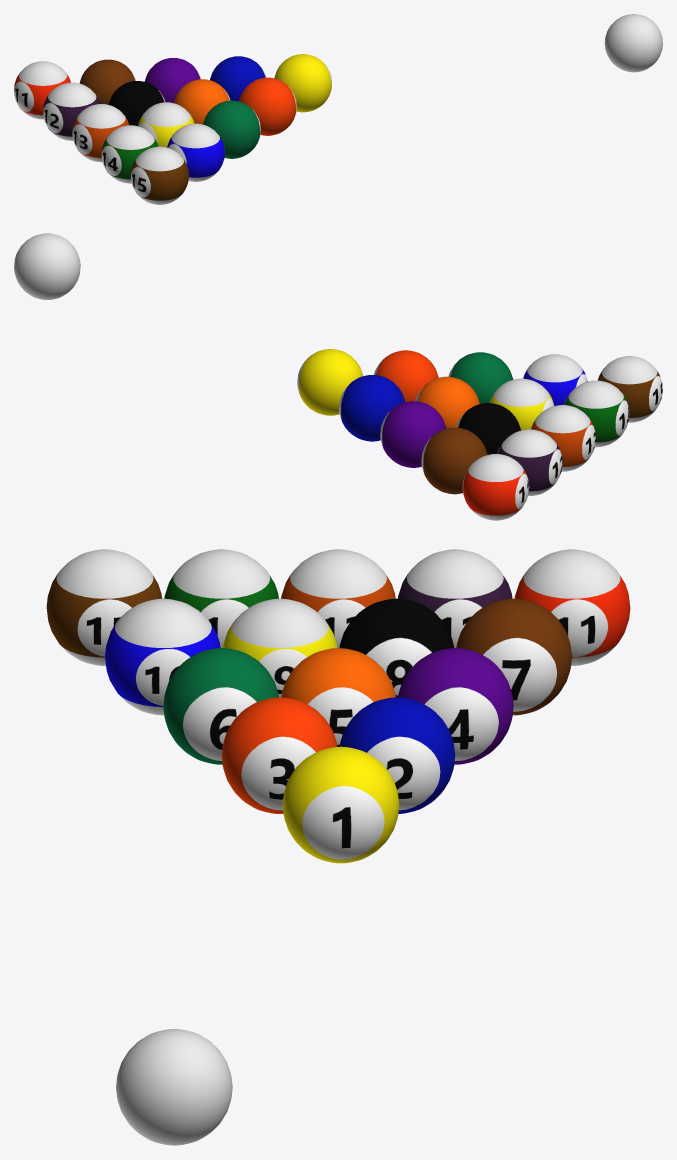
File: balls.fbx
The picture shows the model from 3 angles, top to bottom: view 1: azimuth 30°, elevation 25°; view 2: azimuth 150°, elevation 25°; view 3: azimuth 270°, elevation 25°; orthographic projection. The views are drawn at different scales.
Visible parts, largest first — view 1: 15, white, 3, 6, 10, 1, 14, 11, 12, 13, 2, 9 (+4 smaller); view 2: 11, white, 1, 4, 7, 2, 15, 14, 12, 13, 5, 3 (+4 smaller); view 3: 1, white, 3, 7, 4, 6, 10, 15, 11, 2, 8, 14 (+4 smaller).
Boxes of the visible parts, <box> form: 15: <box>130,146,188,204</box>; white: <box>604,14,662,72</box>; 3: <box>239,77,296,135</box>; 6: <box>203,100,260,158</box>; 10: <box>167,123,224,181</box>; 1: <box>274,54,331,112</box>; 14: <box>101,125,158,183</box>; 11: <box>14,61,70,119</box>; 12: <box>43,82,99,140</box>; 13: <box>72,104,129,162</box>; 2: <box>210,56,266,101</box>; 9: <box>138,102,194,147</box>; 11: <box>462,454,529,520</box>; white: <box>14,233,80,299</box>; 1: <box>297,349,363,415</box>; 4: <box>380,401,446,467</box>; 7: <box>421,427,487,494</box>; 2: <box>339,375,404,441</box>; 15: <box>597,356,662,422</box>; 14: <box>564,380,629,447</box>; 12: <box>497,429,562,496</box>; 13: <box>531,405,595,471</box>; 5: <box>415,376,479,428</box>; 3: <box>374,350,438,402</box>; 1: <box>282,746,399,863</box>; white: <box>116,1029,232,1145</box>; 3: <box>221,697,337,813</box>; 7: <box>456,598,571,715</box>; 4: <box>398,648,513,764</box>; 6: <box>163,648,278,764</box>; 10: <box>105,598,220,715</box>; 15: <box>46,549,162,665</box>; 11: <box>514,549,630,665</box>; 2: <box>339,697,455,813</box>; 8: <box>339,598,454,697</box>; 14: <box>164,549,278,647</box>.
Size of the model in its own units: 2144 by 200 by 1000.
16 materials, 15 textured.
